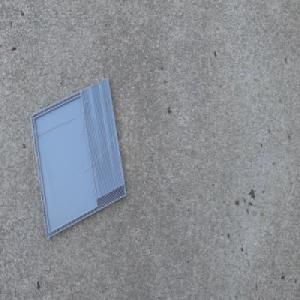PlasticPart: (29, 76, 127, 241)
